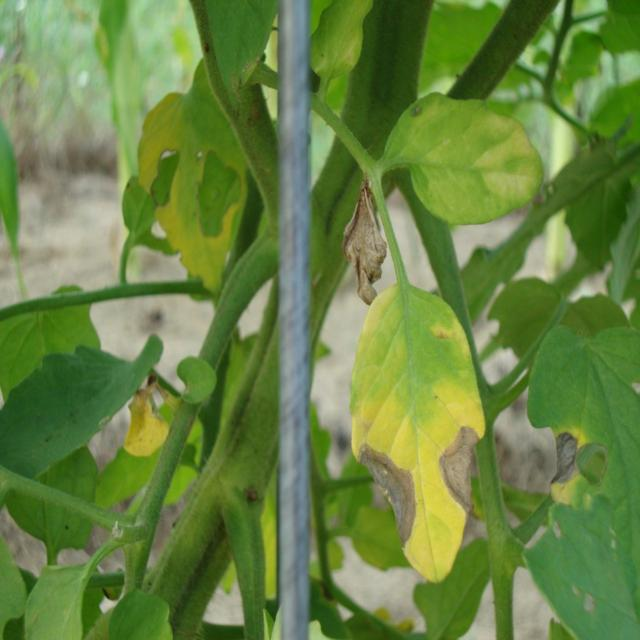Early_blight: (352, 440, 417, 553), (343, 177, 390, 307), (435, 421, 482, 514), (122, 374, 166, 460), (545, 425, 587, 503)
